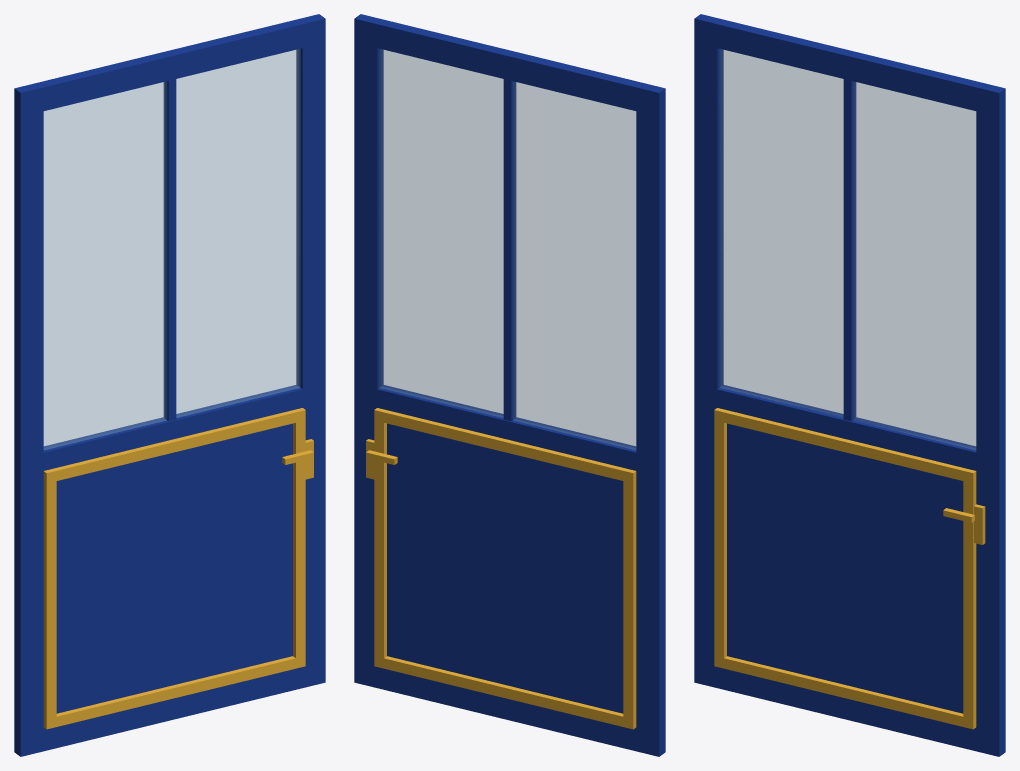
Rendered from SM_Door_academy_140x290.fbx.
3 views of the same model, side by side, from view 1: azimuth 30°, elevation 25°; view 2: azimuth 150°, elevation 25°; view 3: azimuth 330°, elevation 25° (orthographic).
Visible parts, largest first — view 1: SM_Door_academy_140x290; view 2: SM_Door_academy_140x290; view 3: SM_Door_academy_140x290.
Boxes of the visible parts, left/top/right/bottom form: SM_Door_academy_140x290: left=14, top=14, right=325, bottom=756; SM_Door_academy_140x290: left=354, top=14, right=665, bottom=756; SM_Door_academy_140x290: left=694, top=14, right=1005, bottom=756.
Size of the model in its own units: 1.39 by 2.89 by 0.175.
